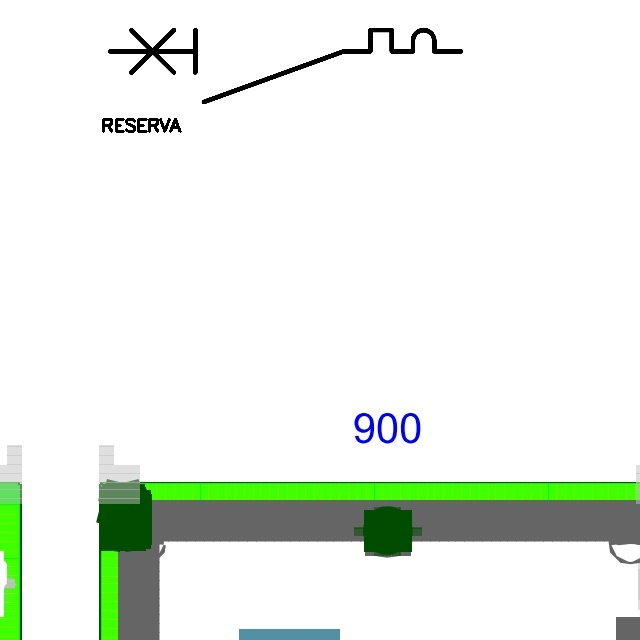interruptor_termomagnetico: (101, 21, 470, 111)
